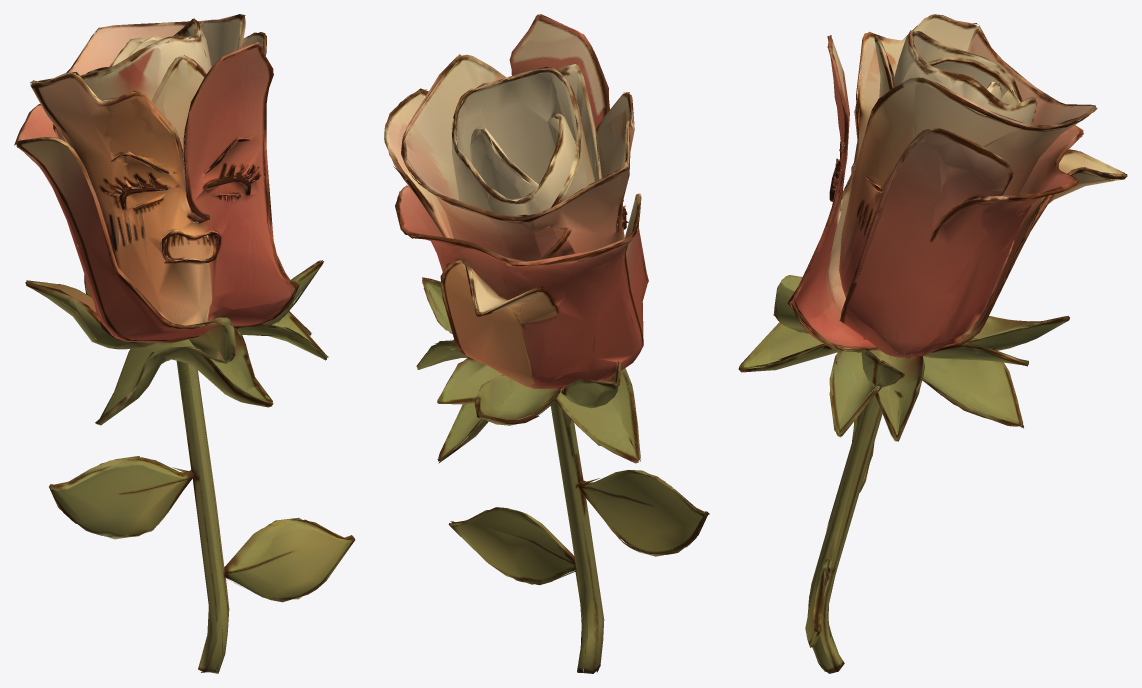
Rendered from a_rose.glb.
3 views of the same model, side by side, from view 1: azimuth 30°, elevation 25°; view 2: azimuth 150°, elevation 25°; view 3: azimuth 270°, elevation 25° (orthographic). The views are drawn at different scales.
Parts seen in each view (by area): view 1: node_0; view 2: node_0; view 3: node_0.
Part boxes in pixels (x1,y1,x2,y2): node_0: (14,14,355,673); node_0: (384,14,709,673); node_0: (738,14,1127,673).
Bounding box in the file's own units: 0.5337 × 1.14 × 0.6231.
Materials: 1 (1 with a texture image).
